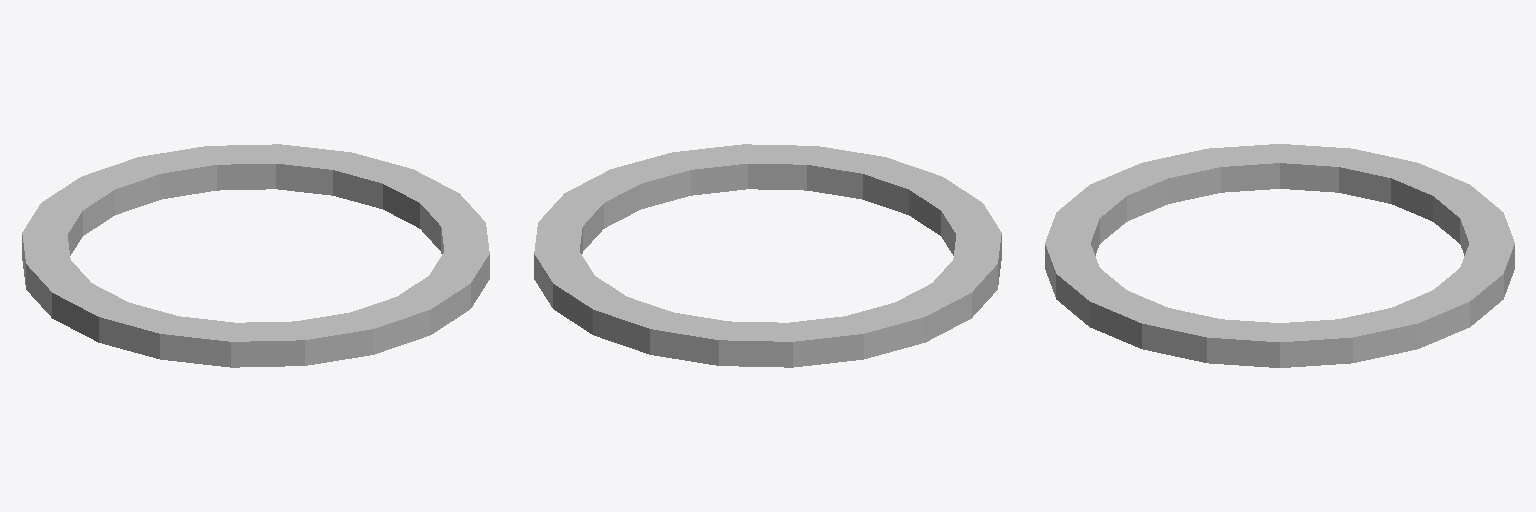
The model's file is col.obj.
3 renders of one model, left to right at view 1: azimuth 30°, elevation 25°; view 2: azimuth 150°, elevation 25°; view 3: azimuth 270°, elevation 25°, orthographic.
Parts seen in each view (by area): view 1: Tube001; view 2: Tube001; view 3: Tube001.
Part boxes in pixels (bbox=[...]): Tube001: bbox=[22, 144, 489, 367]; Tube001: bbox=[534, 144, 1001, 367]; Tube001: bbox=[1045, 144, 1514, 367].
Size of the model in its own units: 27.09 by 1.64 by 27.09.